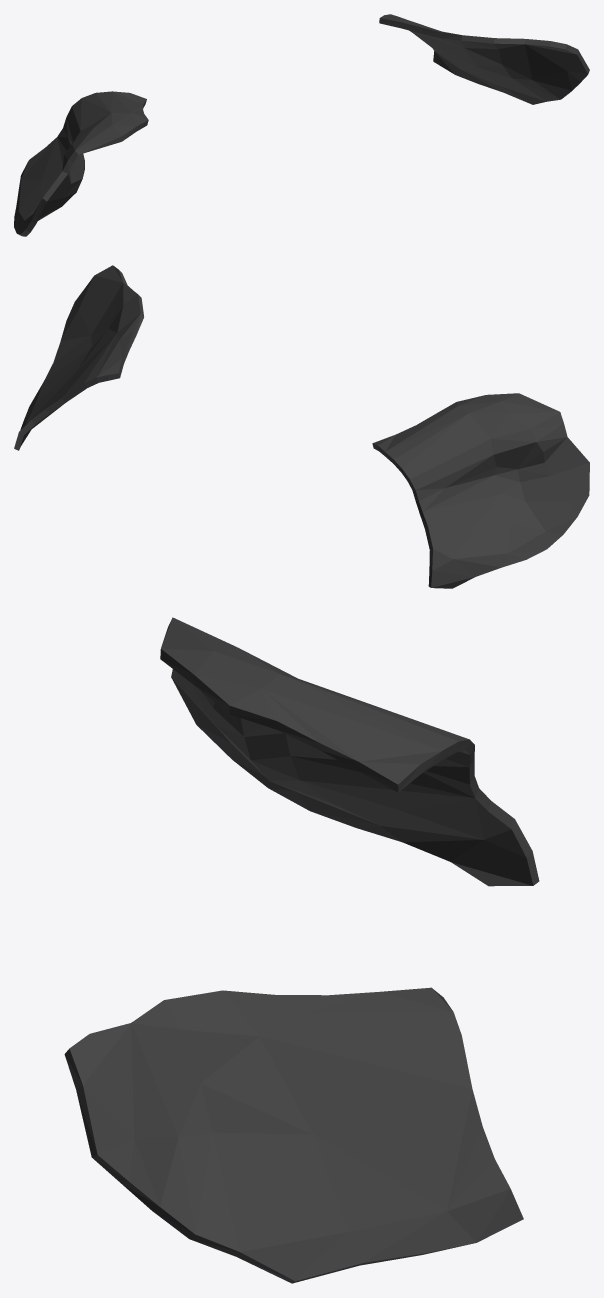
The model's file is t6_cranial_costal_fovea.glb.
The picture shows the model from 3 angles, top to bottom: view 1: azimuth 30°, elevation 25°; view 2: azimuth 150°, elevation 25°; view 3: azimuth 270°, elevation 25°; orthographic projection. The views are drawn at different scales.
Parts seen in each view (by area): view 1: t6_cranial_costal_fovea; view 2: t6_cranial_costal_fovea; view 3: t6_cranial_costal_fovea.
Boxes of the visible parts, x1,y1,x2,y2 form: t6_cranial_costal_fovea: [14, 14, 589, 236]; t6_cranial_costal_fovea: [14, 265, 589, 588]; t6_cranial_costal_fovea: [64, 617, 539, 1283].
Bounding box in the file's own units: 23.59 × 5.72 × 9.1.
1 material, 1 textured.
